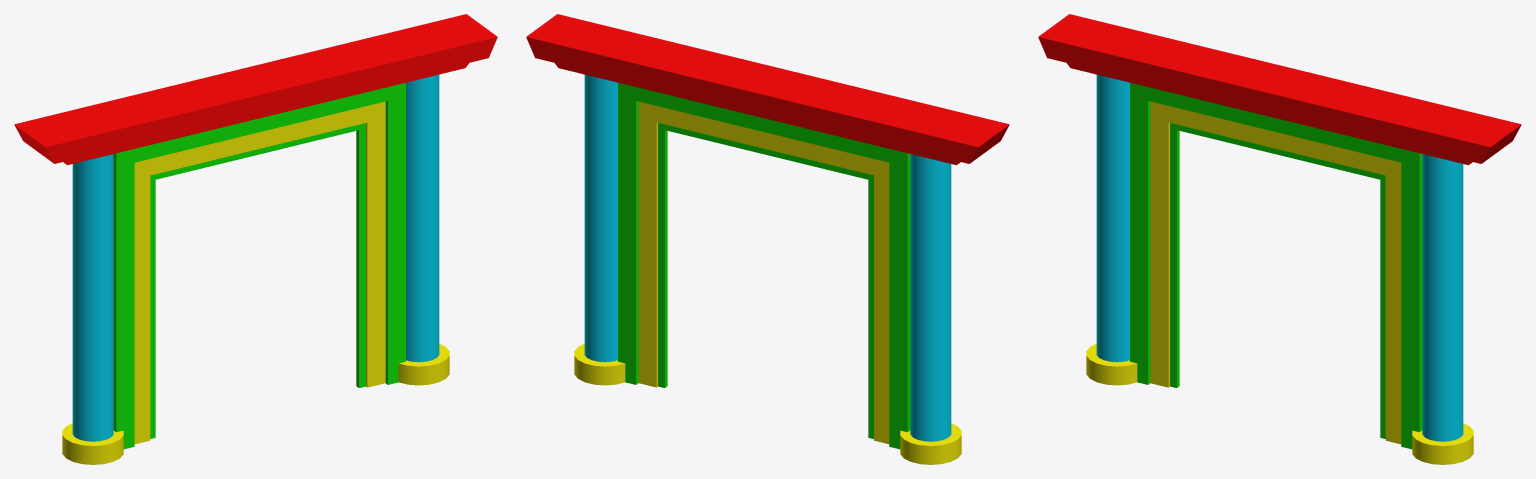
File: fenetre1.FBX
The picture shows the model from 3 angles, left to right: view 1: azimuth 30°, elevation 25°; view 2: azimuth 150°, elevation 25°; view 3: azimuth 330°, elevation 25°; orthographic projection.
Parts seen in each view (by area): view 1: Box001; view 2: Box001; view 3: Box001.
Part boxes in pixels (x1,y1,x2,y2): Box001: [14, 14, 497, 464]; Box001: [526, 14, 1009, 464]; Box001: [1038, 14, 1521, 464].
Size of the model in its own units: 200 by 140 by 24.
